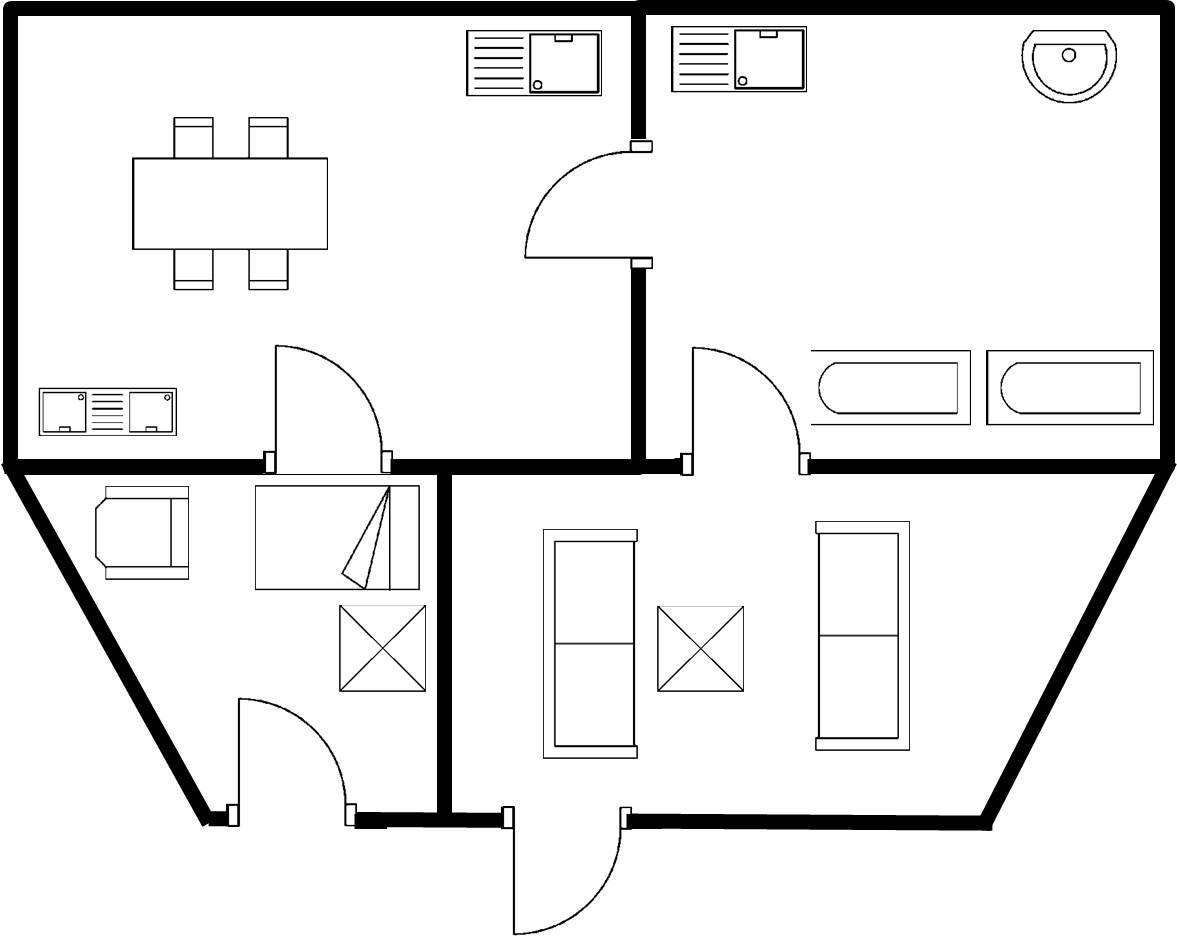sink: (29, 379, 183, 445)
